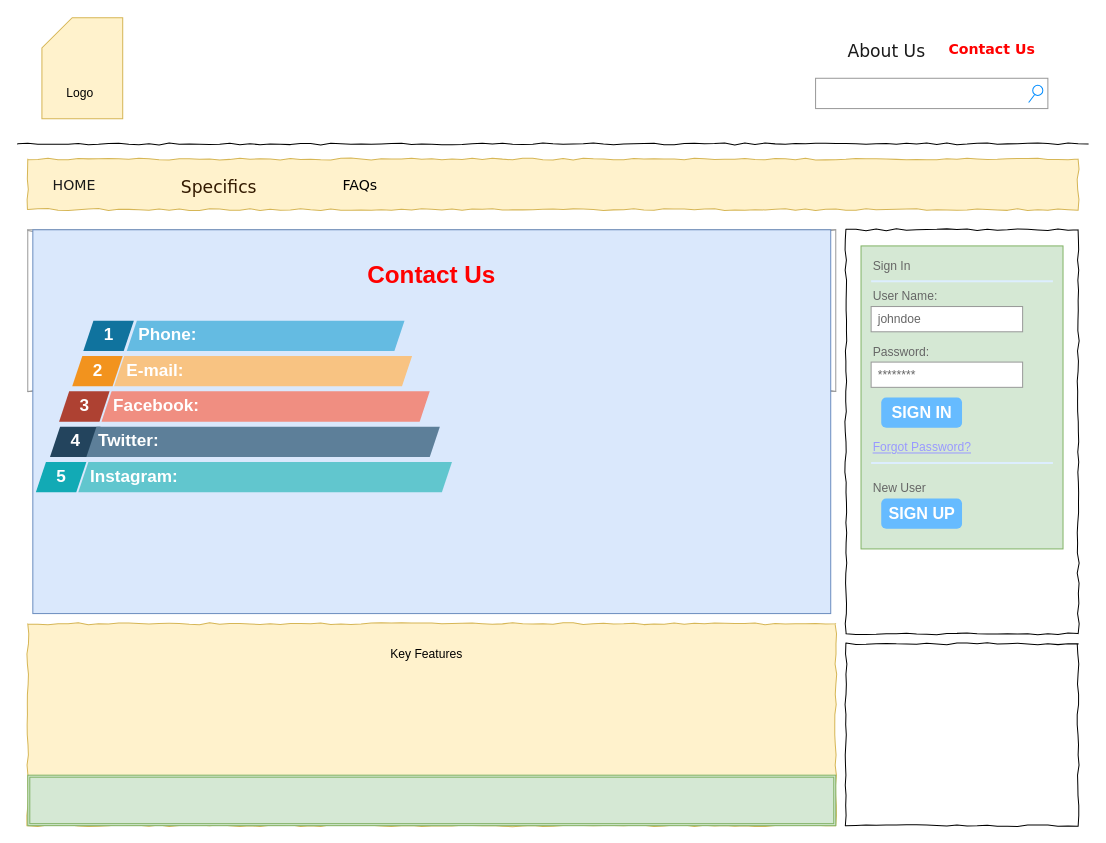
Some shapes in this 1106 by 843 pixel diagram are drawn without their labels. Here are the shapes that lost their labels. From the top down, the box of each, then its label:
(41, 17, 123, 119): WR
(815, 77, 1048, 109): Search
(845, 643, 1078, 826): Ads / External Links
(27, 774, 836, 826): Footer
